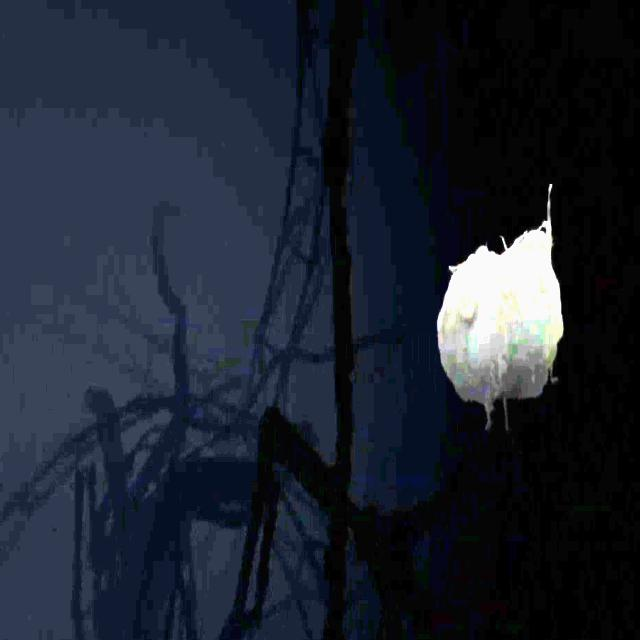blob: (438, 187, 564, 430)
